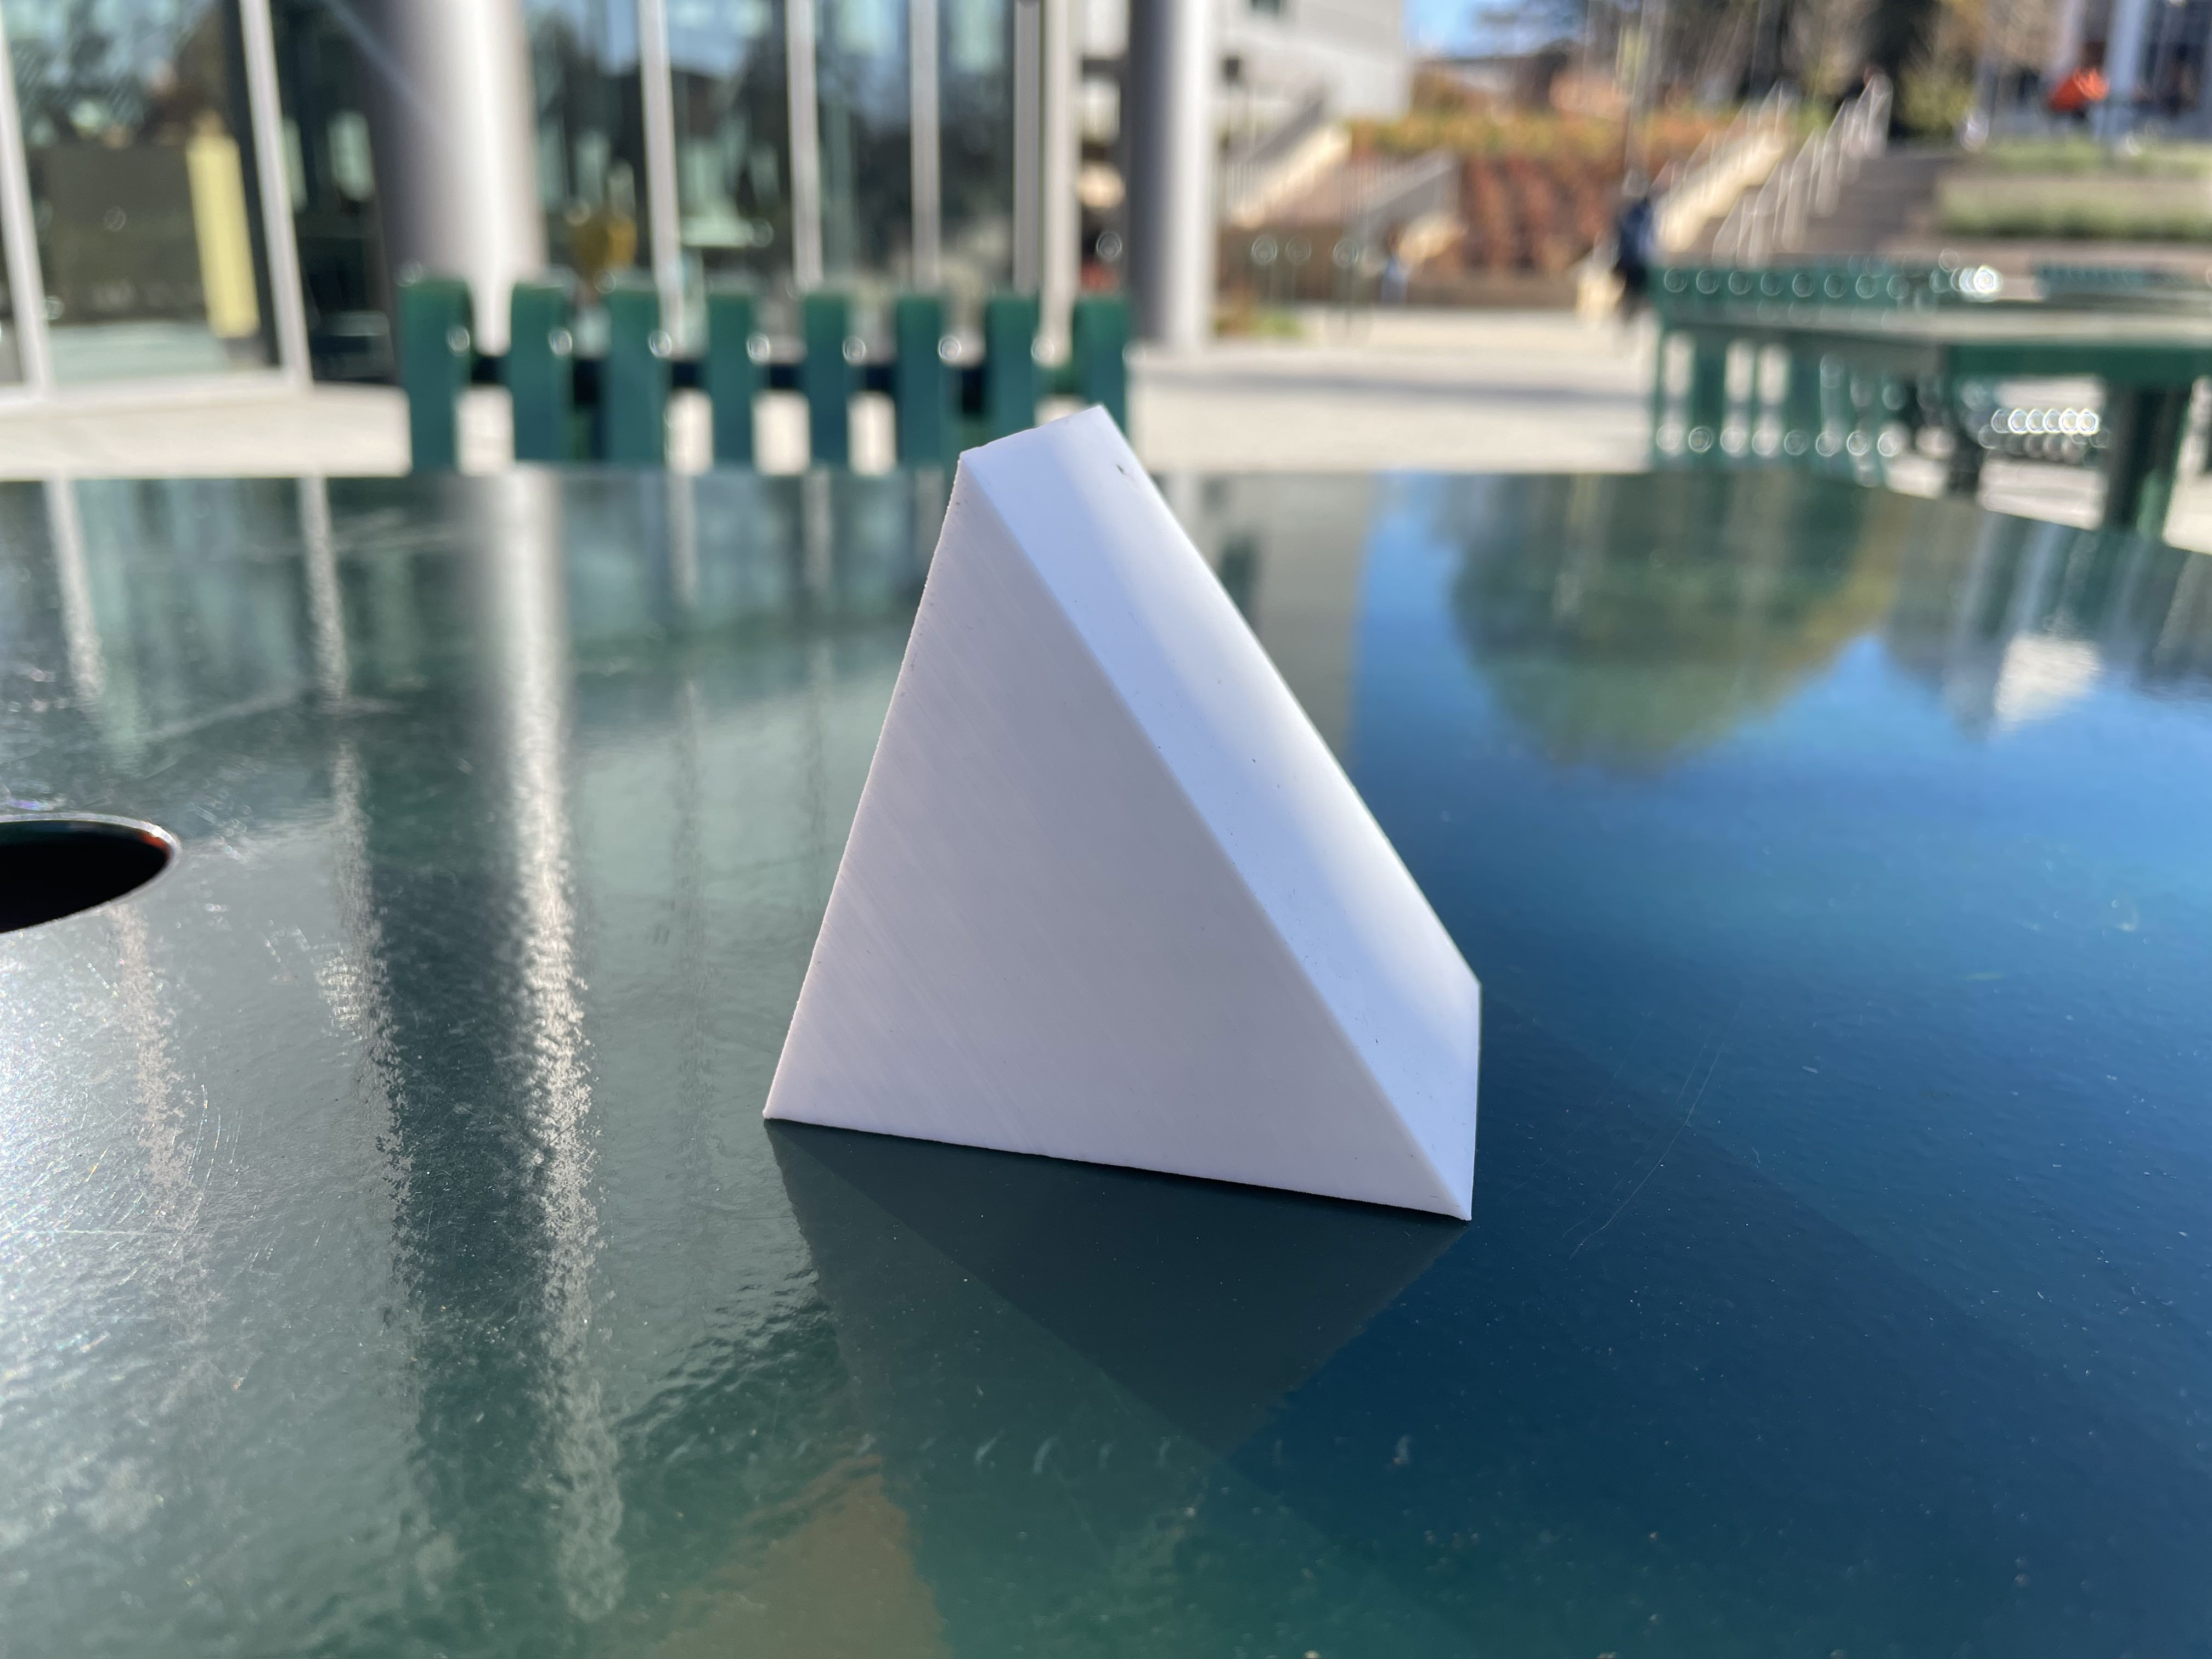payload2: (738, 321, 1571, 1333)
